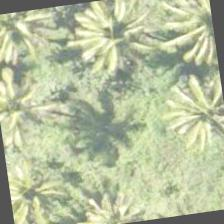Kelapa_Sawit: (68, 0, 169, 83), (156, 68, 223, 167), (4, 139, 82, 223), (0, 54, 66, 153), (160, 0, 220, 79), (0, 7, 63, 74)
